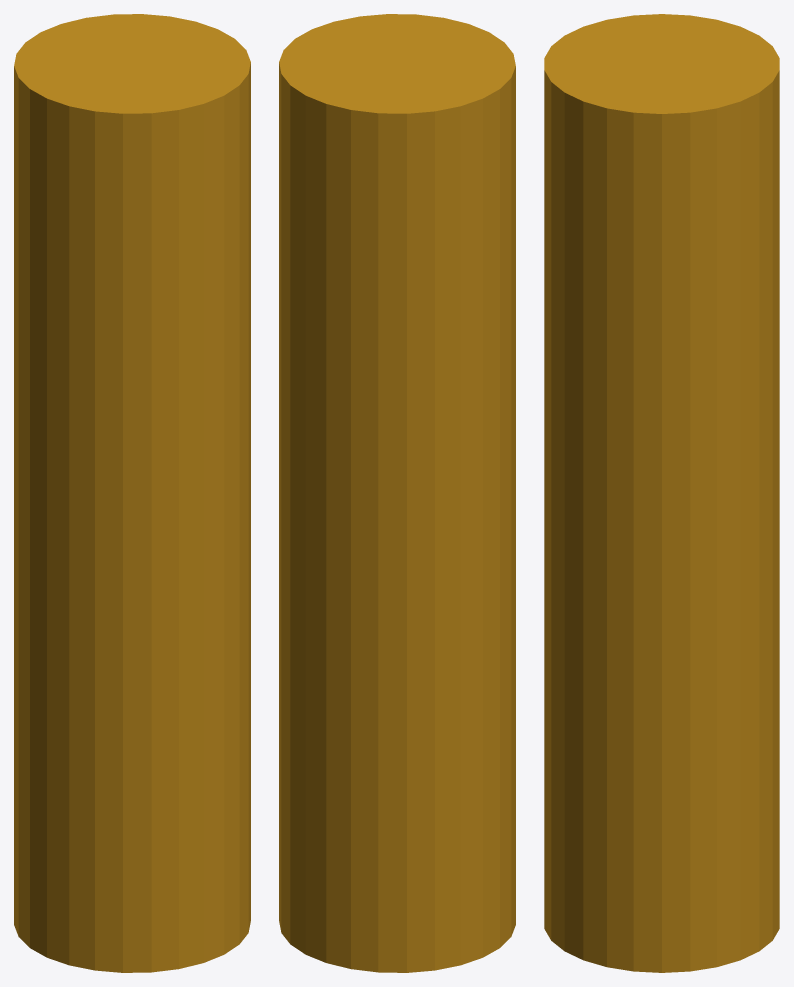
Rendered from base_motor.dae.
The picture shows the model from 3 angles, left to right: view 1: azimuth 30°, elevation 25°; view 2: azimuth 150°, elevation 25°; view 3: azimuth 270°, elevation 25°; orthographic projection.
Visible parts, largest first — view 1: node0; view 2: node0; view 3: node0.
Part boxes in pixels (bbox=[...]): node0: bbox=[14, 14, 250, 972]; node0: bbox=[279, 14, 515, 972]; node0: bbox=[544, 14, 779, 972].
Size of the model in its own units: 0.08 by 0.0794 by 0.32.
